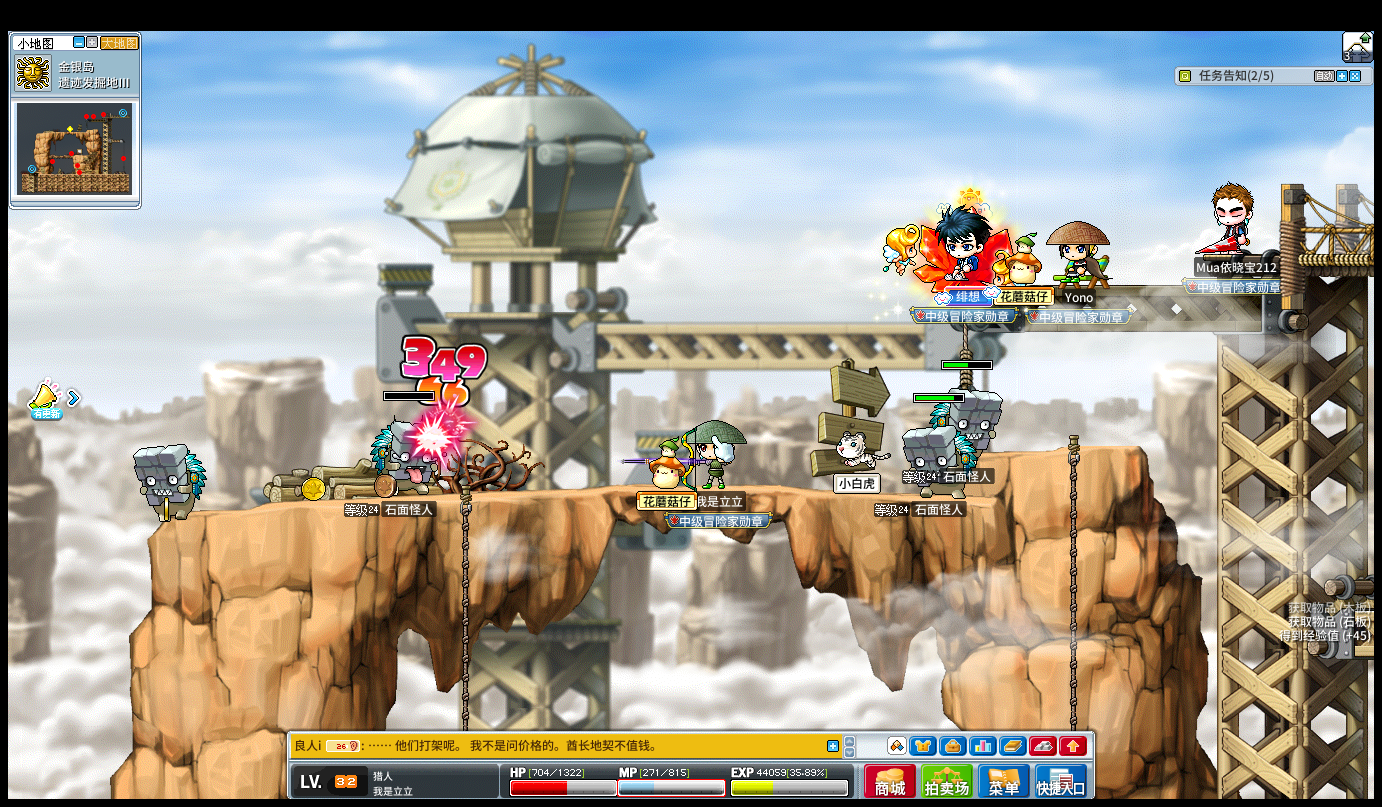floor: (161, 481, 943, 512), (174, 480, 1030, 506), (989, 443, 1146, 457)
monster: (370, 414, 452, 495), (908, 410, 997, 482), (133, 443, 207, 521), (902, 425, 973, 497), (370, 417, 420, 495), (946, 388, 1004, 450)
rope: (1065, 432, 1080, 731), (1067, 433, 1080, 674), (458, 483, 471, 679)
